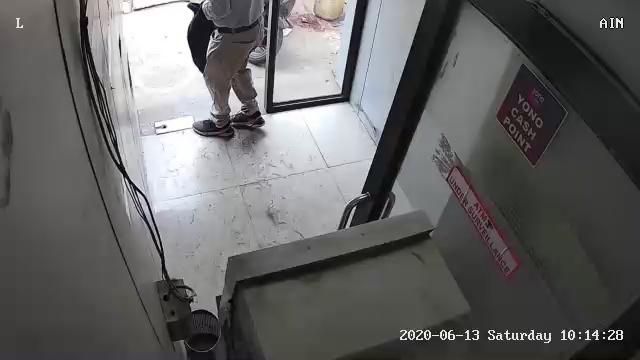open: (110, 4, 411, 148)
